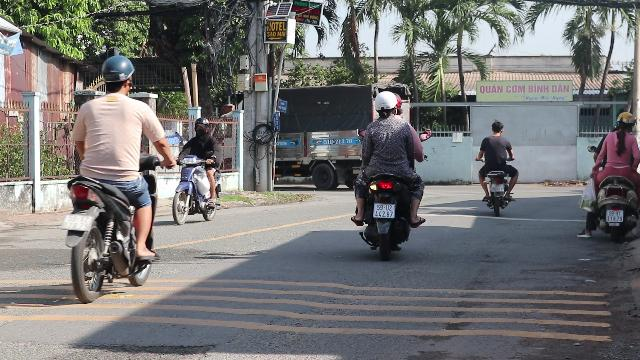helmet: (98, 54, 136, 96), (372, 90, 401, 118), (612, 110, 634, 132), (193, 117, 210, 135)
licenseplate: (374, 203, 394, 217), (606, 210, 622, 222)
motorcyclist: (58, 52, 168, 300), (348, 89, 428, 259), (578, 110, 640, 240), (172, 115, 222, 224)
nohelmet: (63, 213, 93, 229)
